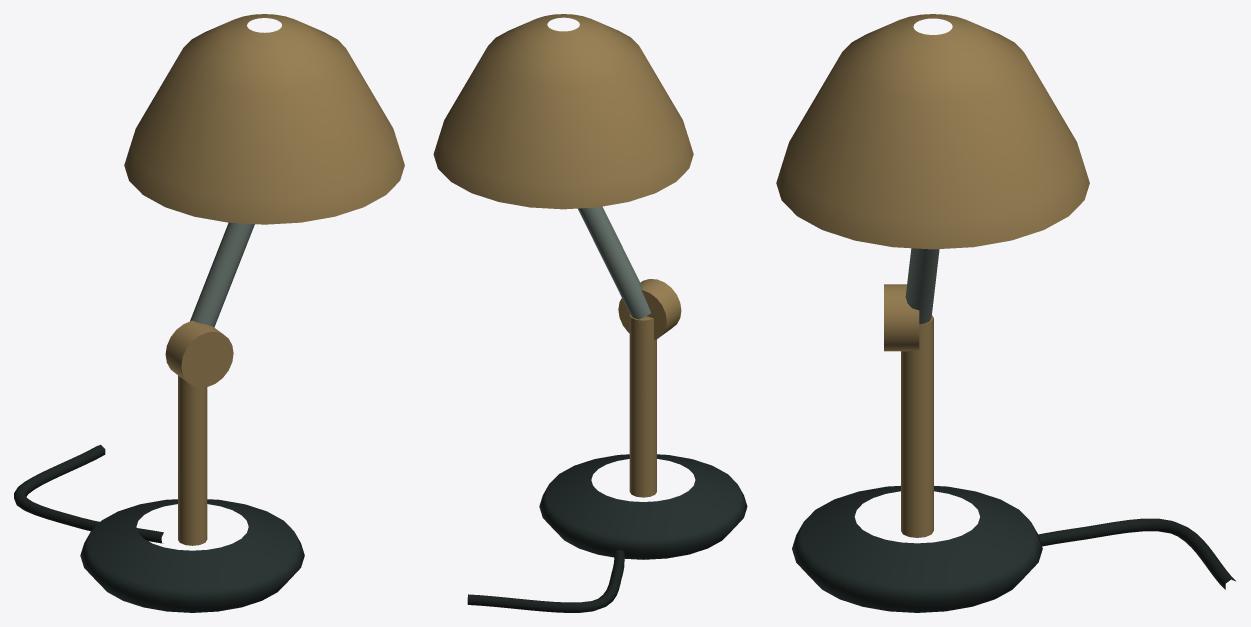
The model's file is task-lamp.glb.
The picture shows the model from 3 angles, left to right: view 1: azimuth 30°, elevation 25°; view 2: azimuth 150°, elevation 25°; view 3: azimuth 270°, elevation 25°; orthographic projection. The views are drawn at different scales.
Parts seen in each view (by area): view 1: task-lamp-brass, task-lamp-dark, task-lamp-steel, task-lamp-rubber; view 2: task-lamp-brass, task-lamp-dark, task-lamp-steel, task-lamp-rubber; view 3: task-lamp-brass, task-lamp-dark, task-lamp-rubber, task-lamp-steel.
Boxes of the visible parts, left/top/right/bottom form: task-lamp-brass: left=124, top=14, right=404, bottom=545; task-lamp-dark: left=80, top=499, right=304, bottom=612; task-lamp-steel: left=190, top=222, right=254, bottom=327; task-lamp-rubber: left=14, top=444, right=163, bottom=543; task-lamp-brass: left=433, top=14, right=693, bottom=497; task-lamp-dark: left=539, top=454, right=747, bottom=559; task-lamp-steel: left=578, top=206, right=650, bottom=319; task-lamp-rubber: left=467, top=549, right=624, bottom=612; task-lamp-brass: left=776, top=14, right=1089, bottom=537; task-lamp-dark: left=792, top=485, right=1042, bottom=612; task-lamp-rubber: left=1038, top=518, right=1235, bottom=589; task-lamp-steel: left=905, top=248, right=939, bottom=324.
Size of the model in its own units: 0.49 by 0.82 by 0.5872.
